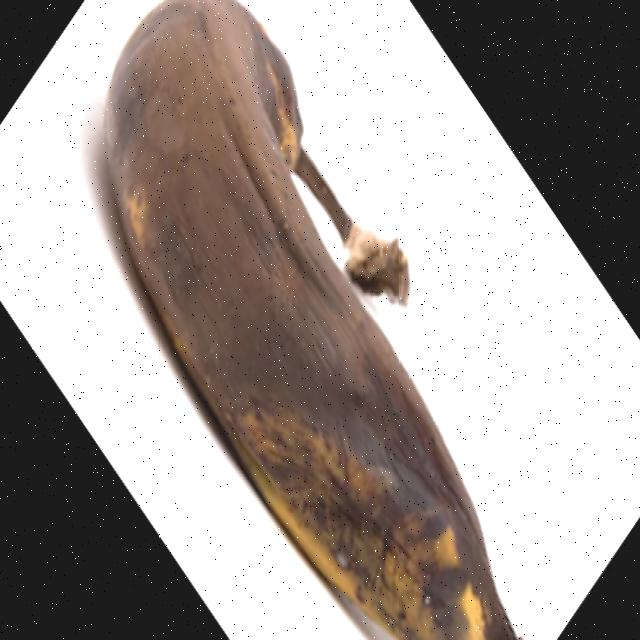Rotten: (101, 0, 520, 640)
